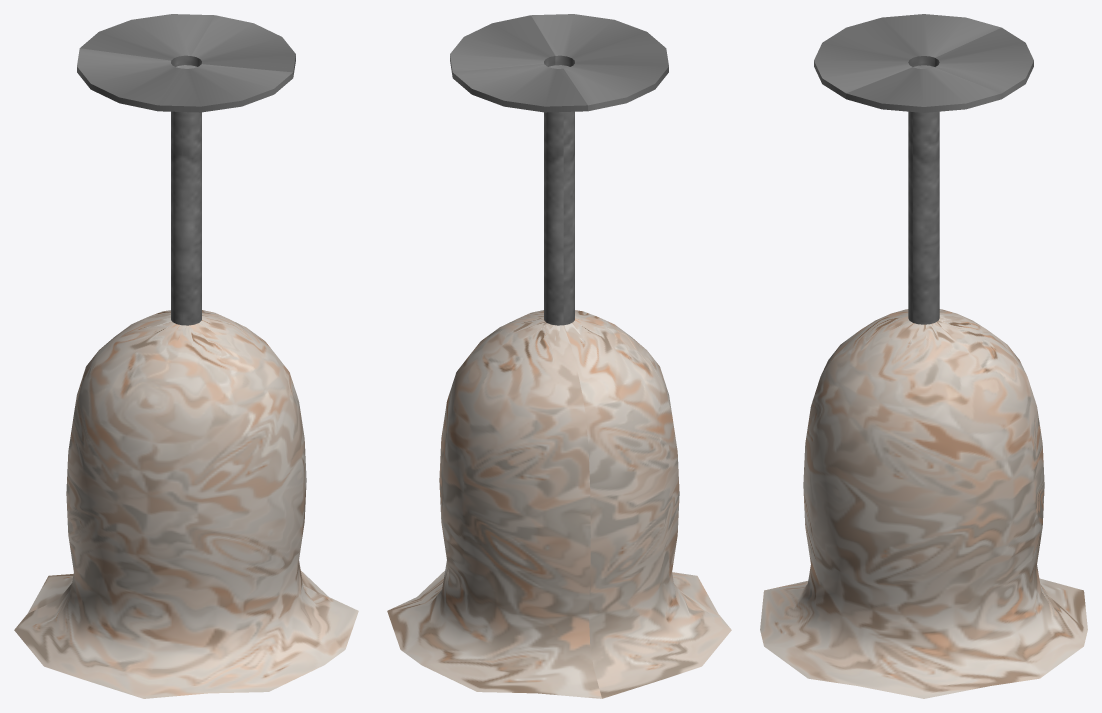
The model's file is Chandilier.fbx.
The picture shows the model from 3 angles, left to right: view 1: azimuth 30°, elevation 25°; view 2: azimuth 150°, elevation 25°; view 3: azimuth 270°, elevation 25°; orthographic projection.
Visible parts, largest first — view 1: lamp; view 2: lamp; view 3: lamp.
Boxes of the visible parts, x1=… form: lamp: x1=14, y1=14, x2=358, y2=698; lamp: x1=387, y1=14, x2=731, y2=698; lamp: x1=760, y1=14, x2=1087, y2=698.
Size of the model in its own units: 0.3075 by 0.3075 by 0.5893.
